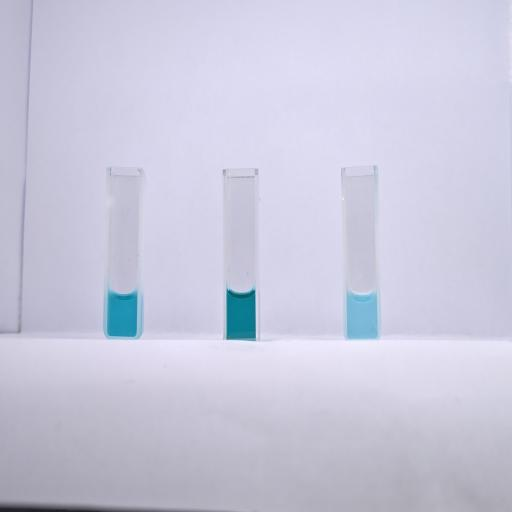cuvette: (337, 163, 383, 342), (102, 165, 145, 342), (220, 166, 262, 342)
liquid: (227, 291, 255, 339), (347, 292, 377, 336), (108, 291, 137, 336)
